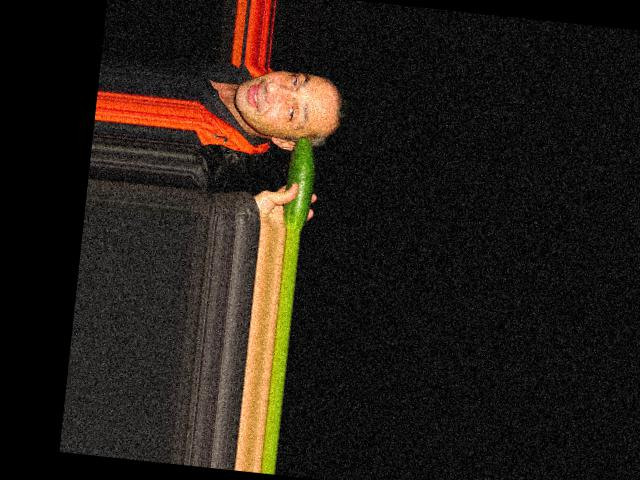cucumber: (281, 135, 318, 231)
